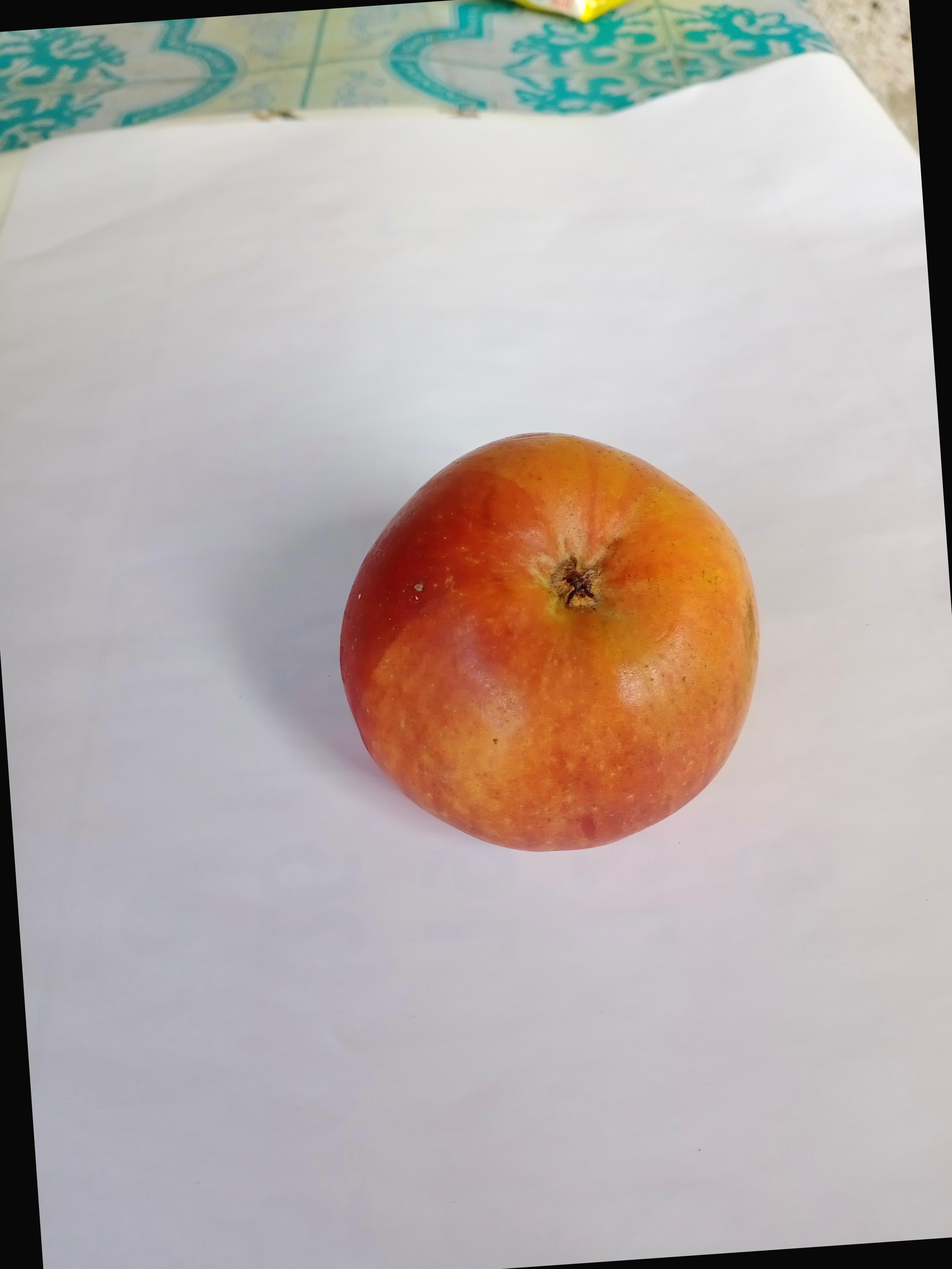Apple Ripe: (236, 421, 758, 966)
